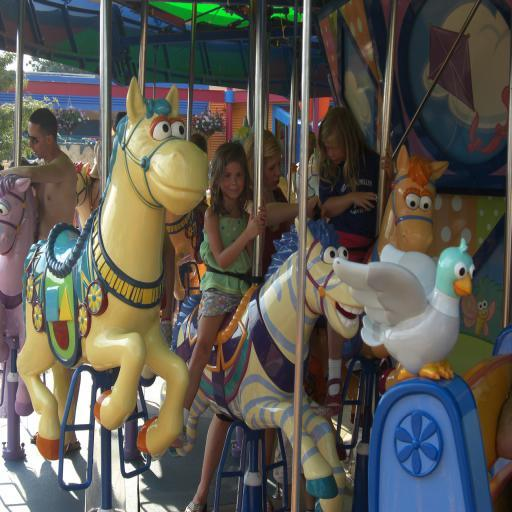Horse: (0, 74, 449, 512)
